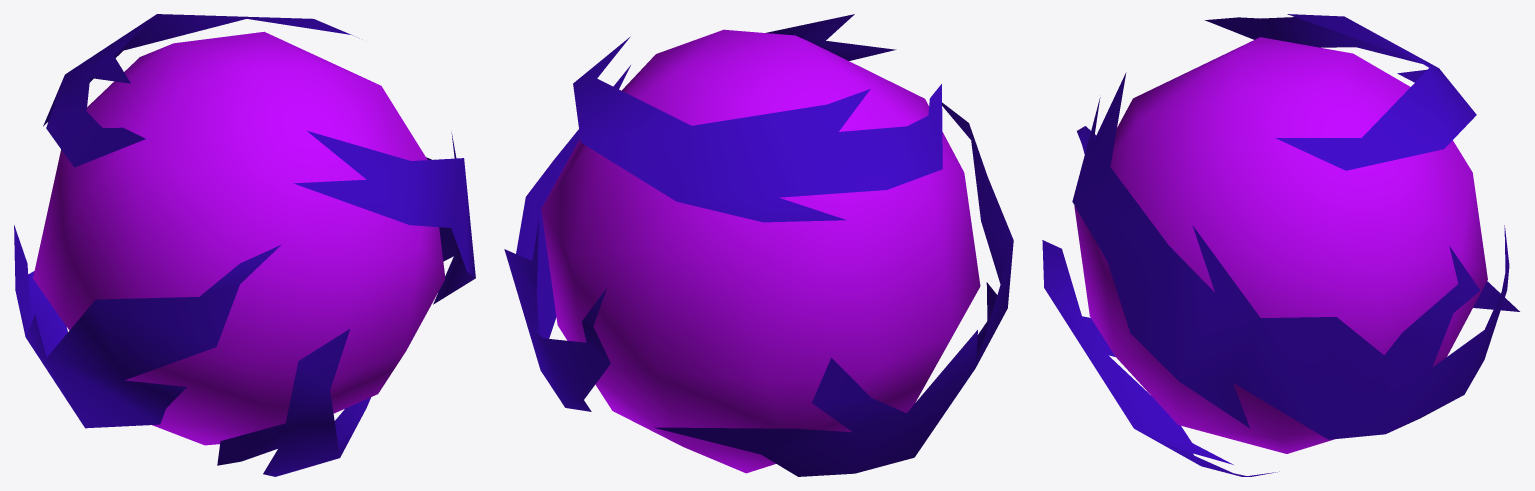
Rendered from plasmaball.obj.
3 renders of one model, left to right at view 1: azimuth 30°, elevation 25°; view 2: azimuth 150°, elevation 25°; view 3: azimuth 270°, elevation 25°, orthographic. The views are drawn at different scales.
Parts seen in each view (by area): view 1: Sphere, Sphere.004_deci, Sphere.004_deci.001; view 2: Sphere, Sphere.004_deci, Sphere.004_deci.001; view 3: Sphere, Sphere.004_deci, Sphere.004_deci.001.
Part boxes in pixels (<box>): Sphere: <box>33,31,445,445</box>; Sphere.004_deci: <box>14,14,475,476</box>; Sphere.004_deci.001: <box>14,14,473,476</box>; Sphere: <box>541,29,980,473</box>; Sphere.004_deci: <box>504,14,1013,476</box>; Sphere.004_deci.001: <box>504,15,1012,471</box>; Sphere: <box>1074,37,1487,453</box>; Sphere.004_deci: <box>1042,17,1519,476</box>; Sphere.004_deci.001: <box>1043,14,1516,476</box>.
Size of the model in its own units: 2.28 by 2.11 by 2.31.
